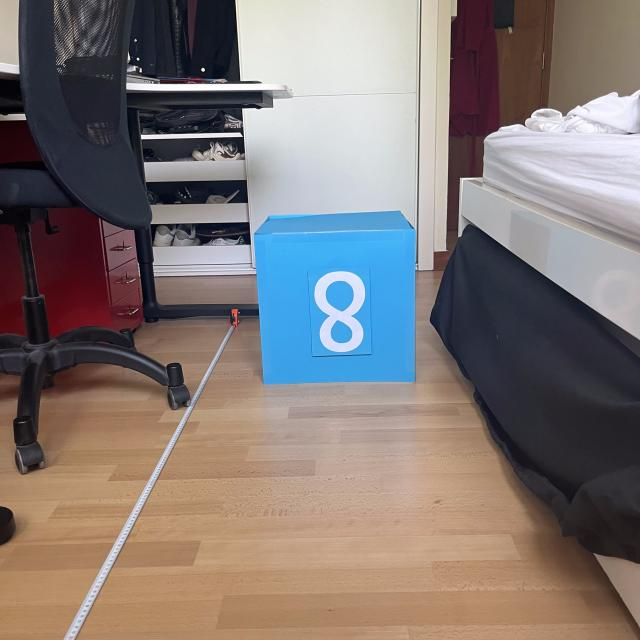box: (250, 206, 420, 386)
